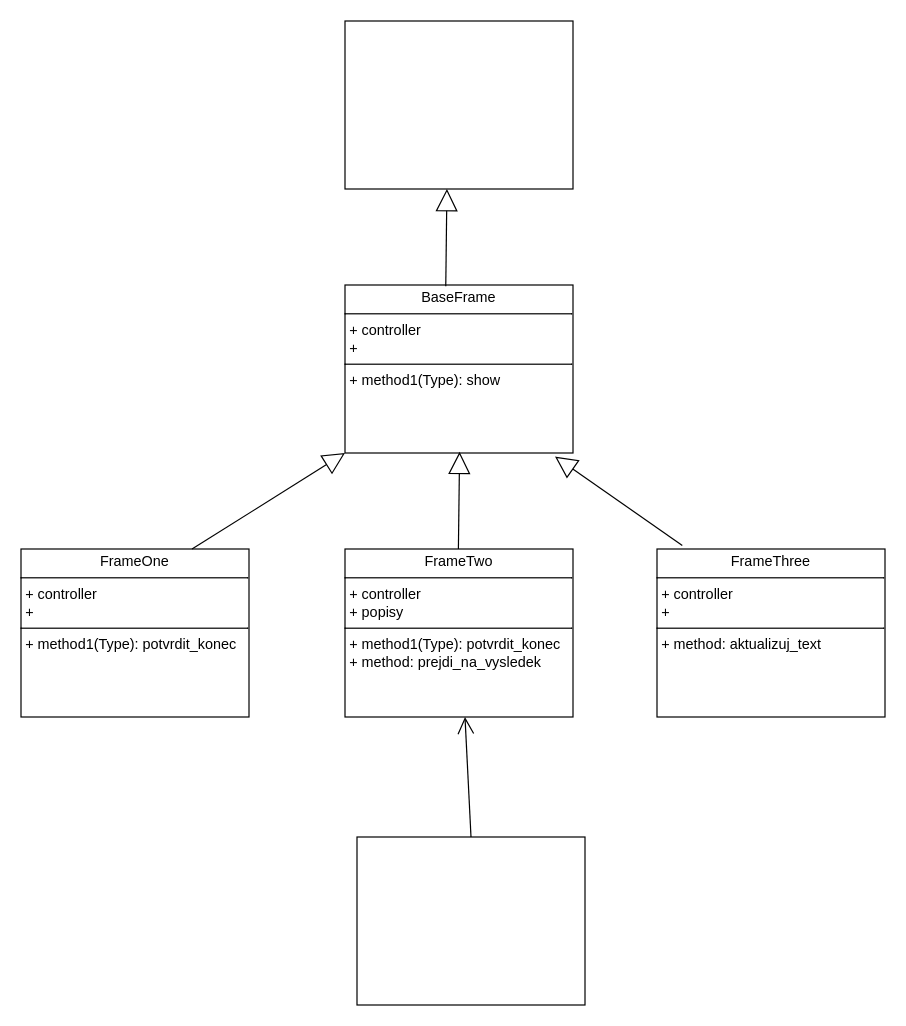
The diagram is 906 pixels wide and 1026 high, and some of its shapes have lost their labels. The centre of each missing label's shape, as x and y in pixels:
"horoskop_scrapper + controller + + method: ziskej_popis_znameni" belongs at (x=470, y=920).
"MainApp + vybrane znameni + frames + method1(Type): show_frme" belongs at (x=458, y=104).
